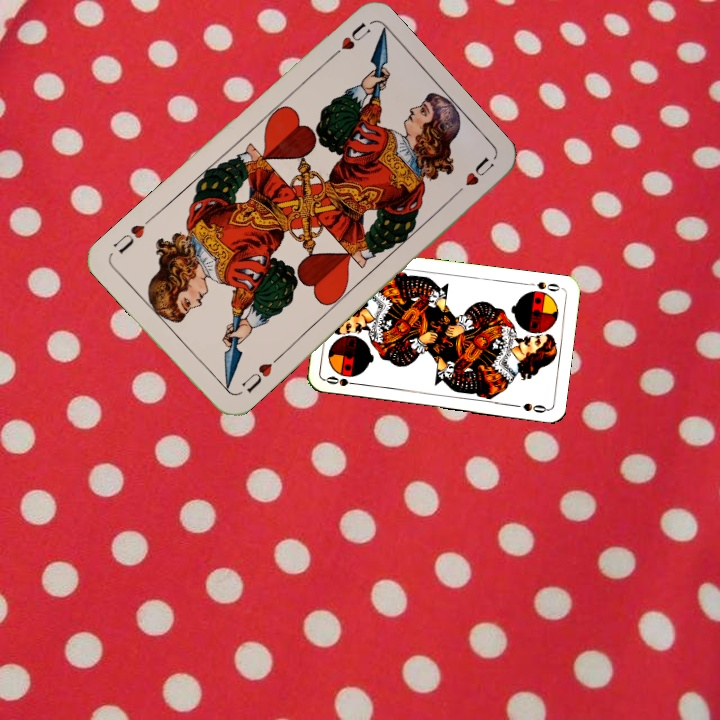HU: (323, 18, 373, 64), (237, 353, 282, 396)
SO: (322, 372, 362, 389), (524, 277, 564, 294)
